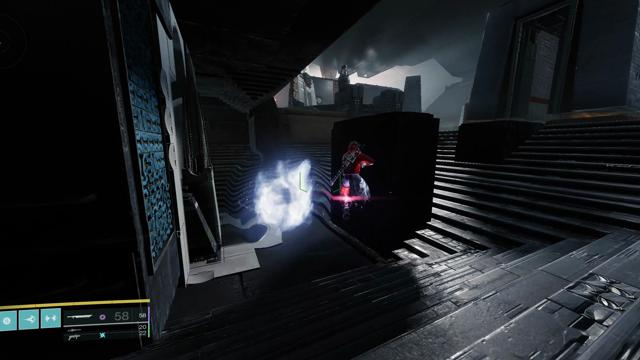brain: (316, 97, 322, 104)
stop: (306, 77, 311, 86)
